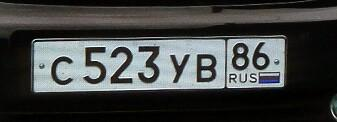license-plateSW: (31, 36, 291, 93)
